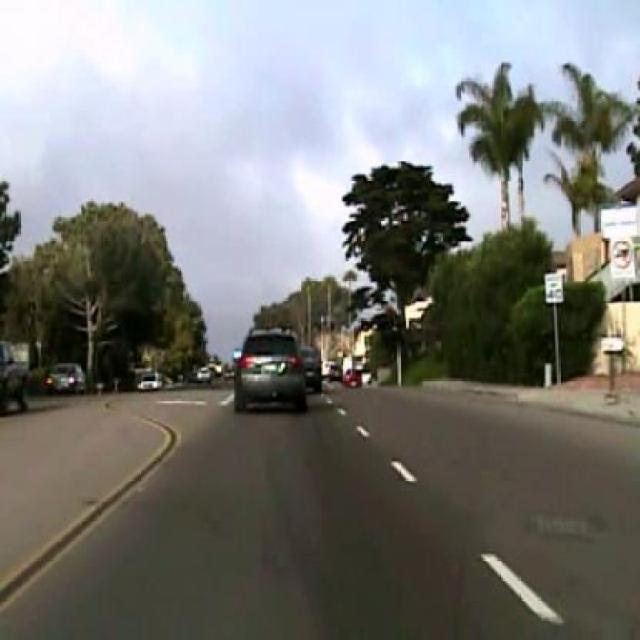speedLimit40: (544, 271, 564, 303)
